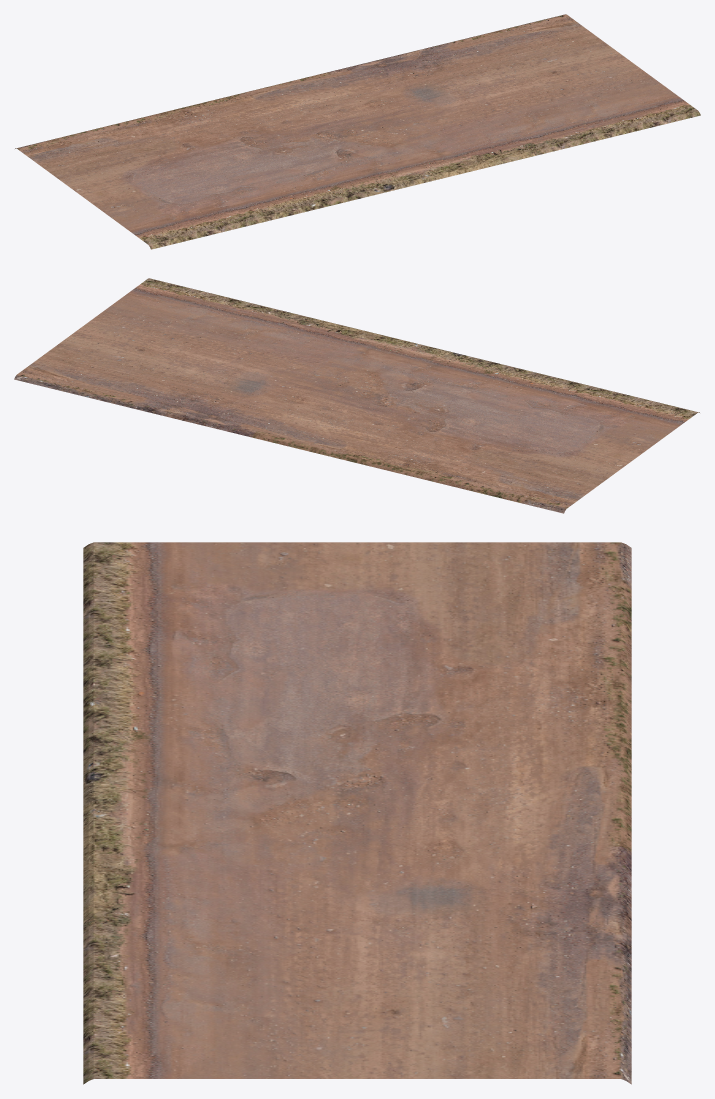
The model's file is Road.fbx.
3 views of the same model, one above another, from view 1: azimuth 30°, elevation 25°; view 2: azimuth 150°, elevation 25°; view 3: azimuth 270°, elevation 25° (orthographic). The views are drawn at different scales.
Parts seen in each view (by area): view 1: Road; view 2: Road; view 3: Road.
Part boxes in pixels (x1,y1,x2,y2): Road: (15, 14, 700, 249); Road: (14, 278, 699, 513); Road: (83, 542, 631, 1084).
Bounding box in the file's own units: 15.22 × 0.0738 × 6.57.
